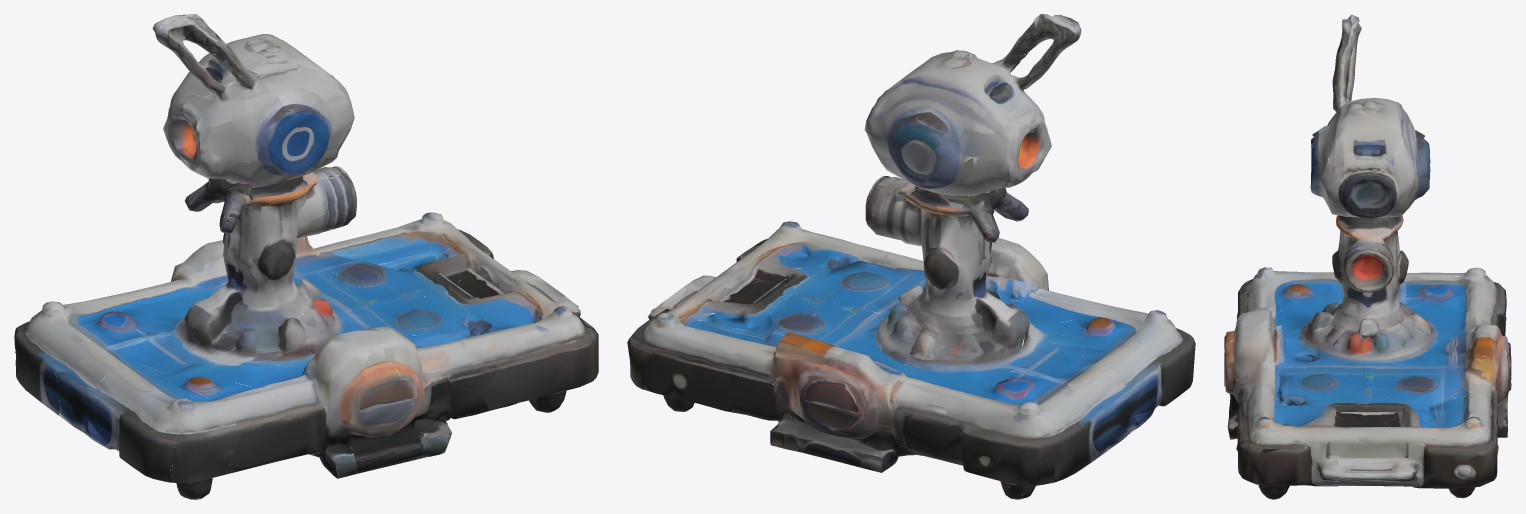
Rendered from prop_cargo_scanner_platform.glb.
3 views of the same model, side by side, from view 1: azimuth 30°, elevation 25°; view 2: azimuth 150°, elevation 25°; view 3: azimuth 270°, elevation 25° (orthographic). The views are drawn at different scales.
Visible parts, largest first — view 1: tripo_node_35c09161-8e7c-4497-b7d3-6d8e07bfd490; view 2: tripo_node_35c09161-8e7c-4497-b7d3-6d8e07bfd490; view 3: tripo_node_35c09161-8e7c-4497-b7d3-6d8e07bfd490.
Part boxes in pixels (x1,y1,x2,y2): tripo_node_35c09161-8e7c-4497-b7d3-6d8e07bfd490: (14, 14, 598, 499); tripo_node_35c09161-8e7c-4497-b7d3-6d8e07bfd490: (627, 14, 1195, 499); tripo_node_35c09161-8e7c-4497-b7d3-6d8e07bfd490: (1224, 14, 1511, 499).
Bounding box in the file's own units: 0.9997 × 0.8826 × 0.6489.
Materials: 1 (1 with a texture image).
